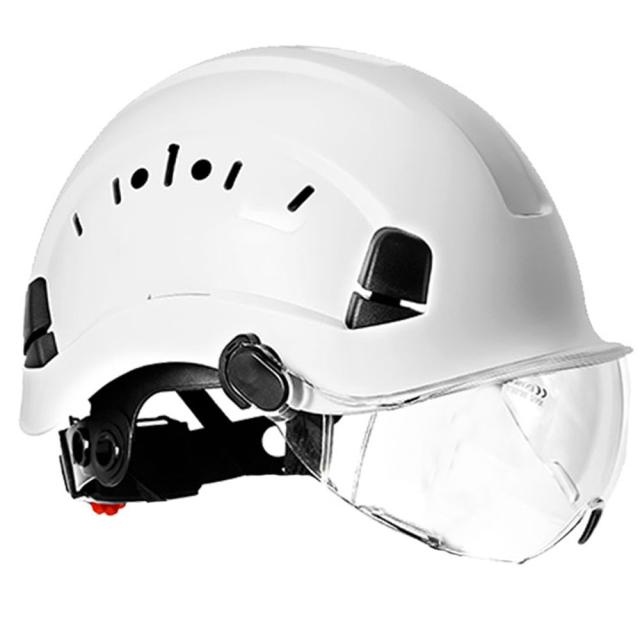goggles: (272, 375, 628, 558)
helmet: (40, 57, 628, 563)
